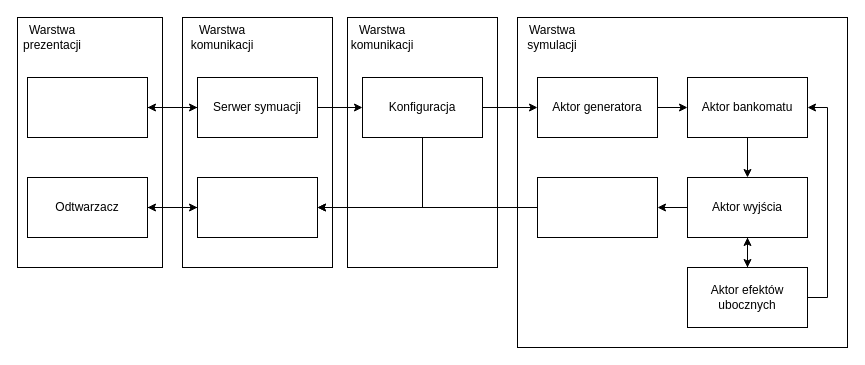
This 865x365 diagram has some shape labels left out. Here are the shapes that lost their labels. From the top down, the centre of each, then its label:
At [87,107]: "Edytor".
At [257,207]: "Serwer danych".
At [597,207]: "Dziennik danych".
